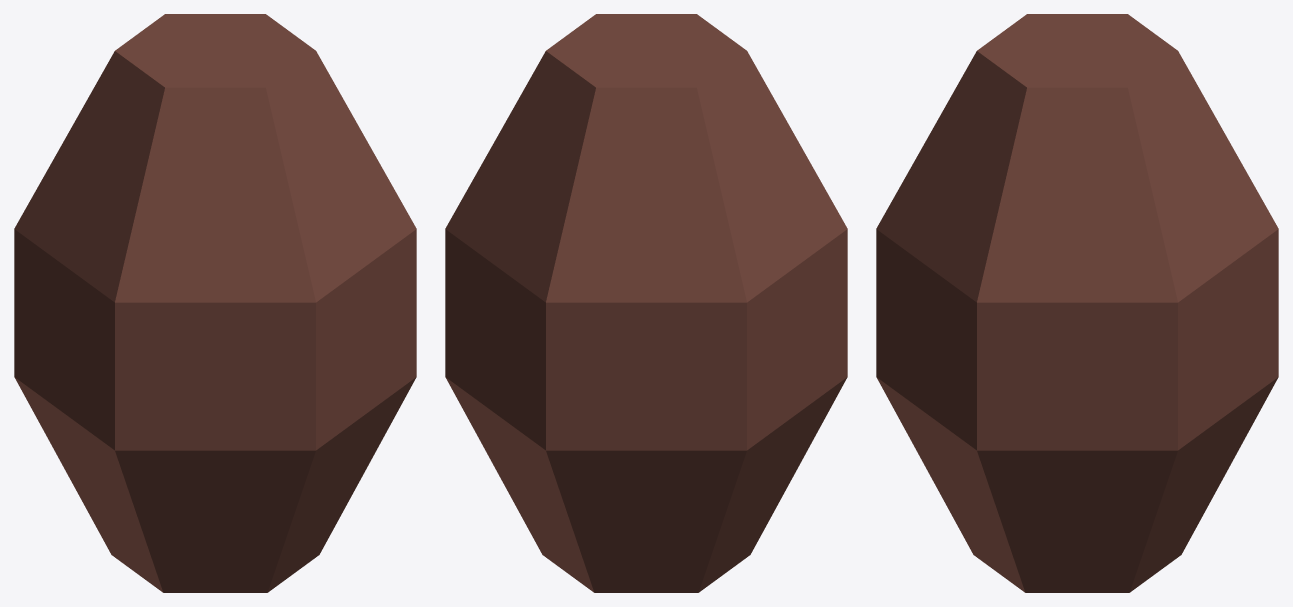
File: potato.obj
The picture shows the model from 3 angles, left to right: view 1: azimuth 30°, elevation 25°; view 2: azimuth 150°, elevation 25°; view 3: azimuth 270°, elevation 25°; orthographic projection.
Visible parts, largest first — view 1: avocado.002; view 2: avocado.002; view 3: avocado.002.
Boxes of the visible parts, box(x1,y1,x2,y2) form: avocado.002: box(14, 14, 416, 592); avocado.002: box(445, 14, 847, 592); avocado.002: box(876, 14, 1278, 592).
Bounding box in the file's own units: 0.0751 × 0.1198 × 0.0867.
